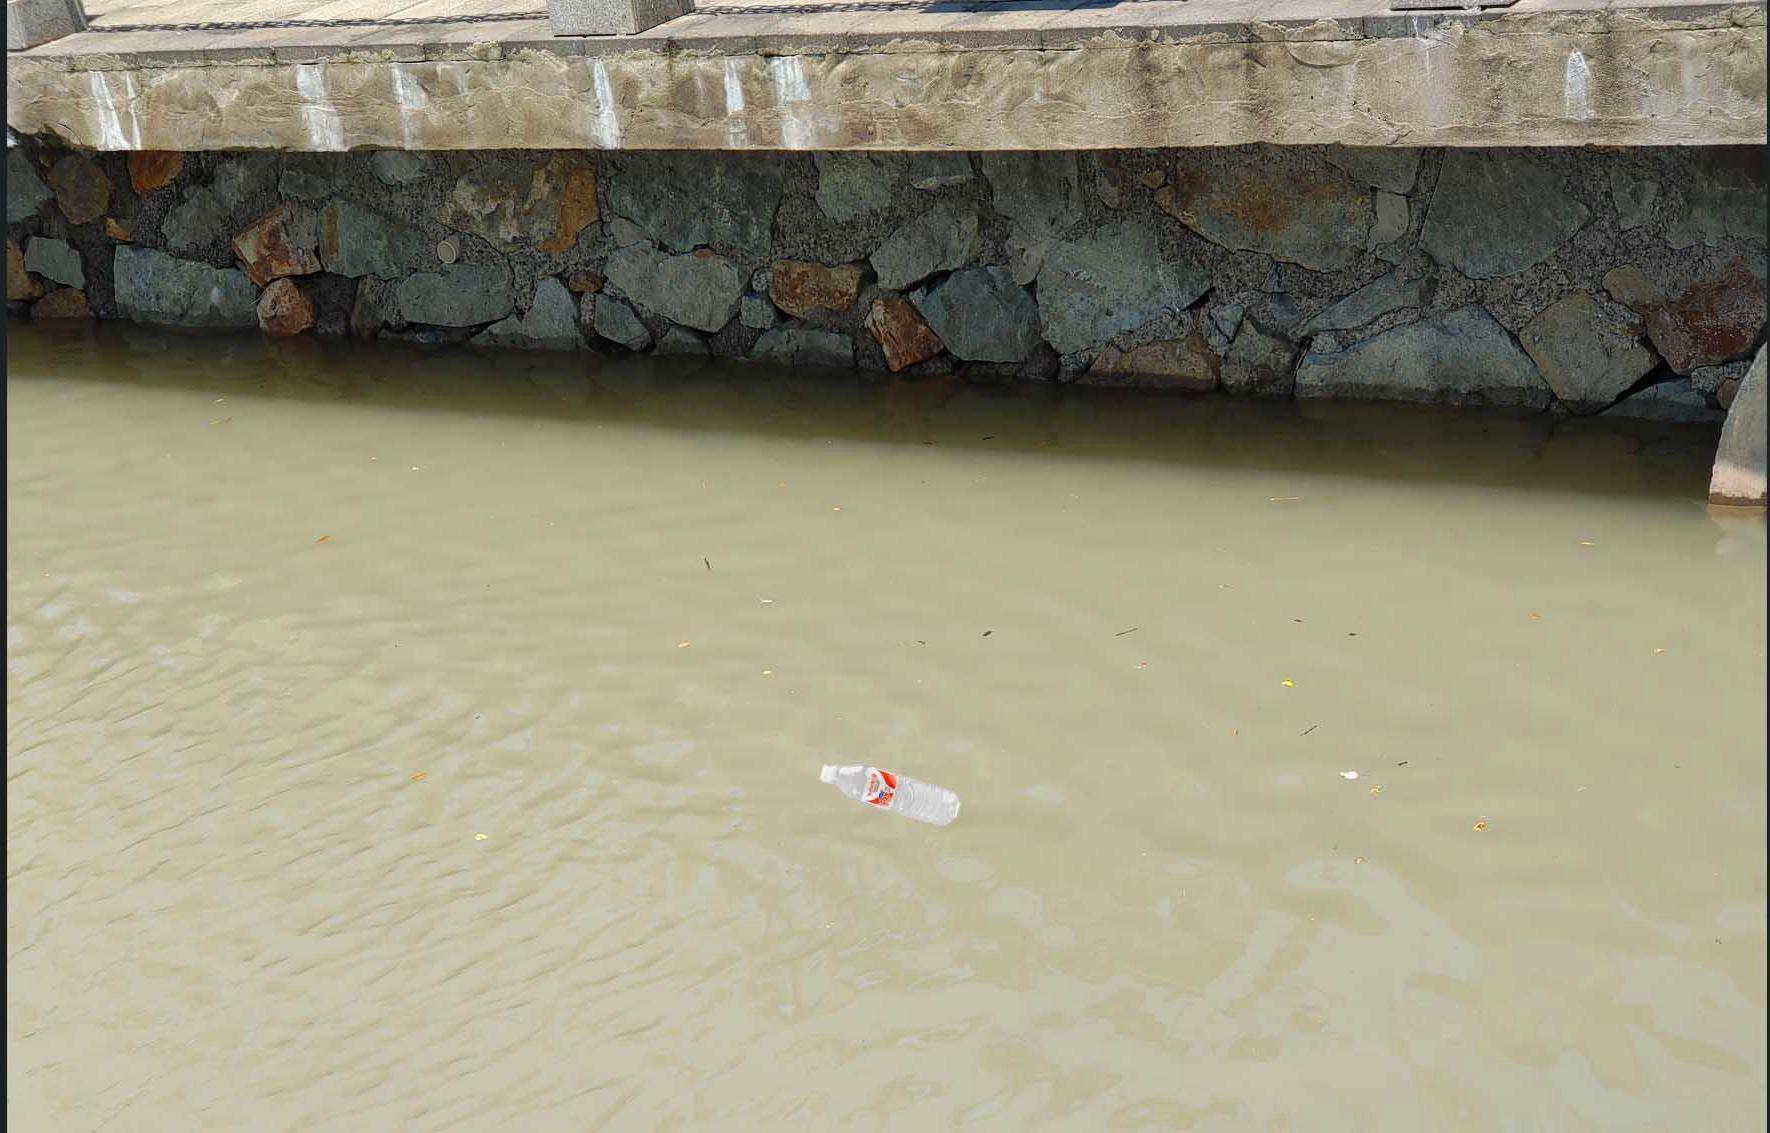Plastic: (811, 761, 965, 834)
